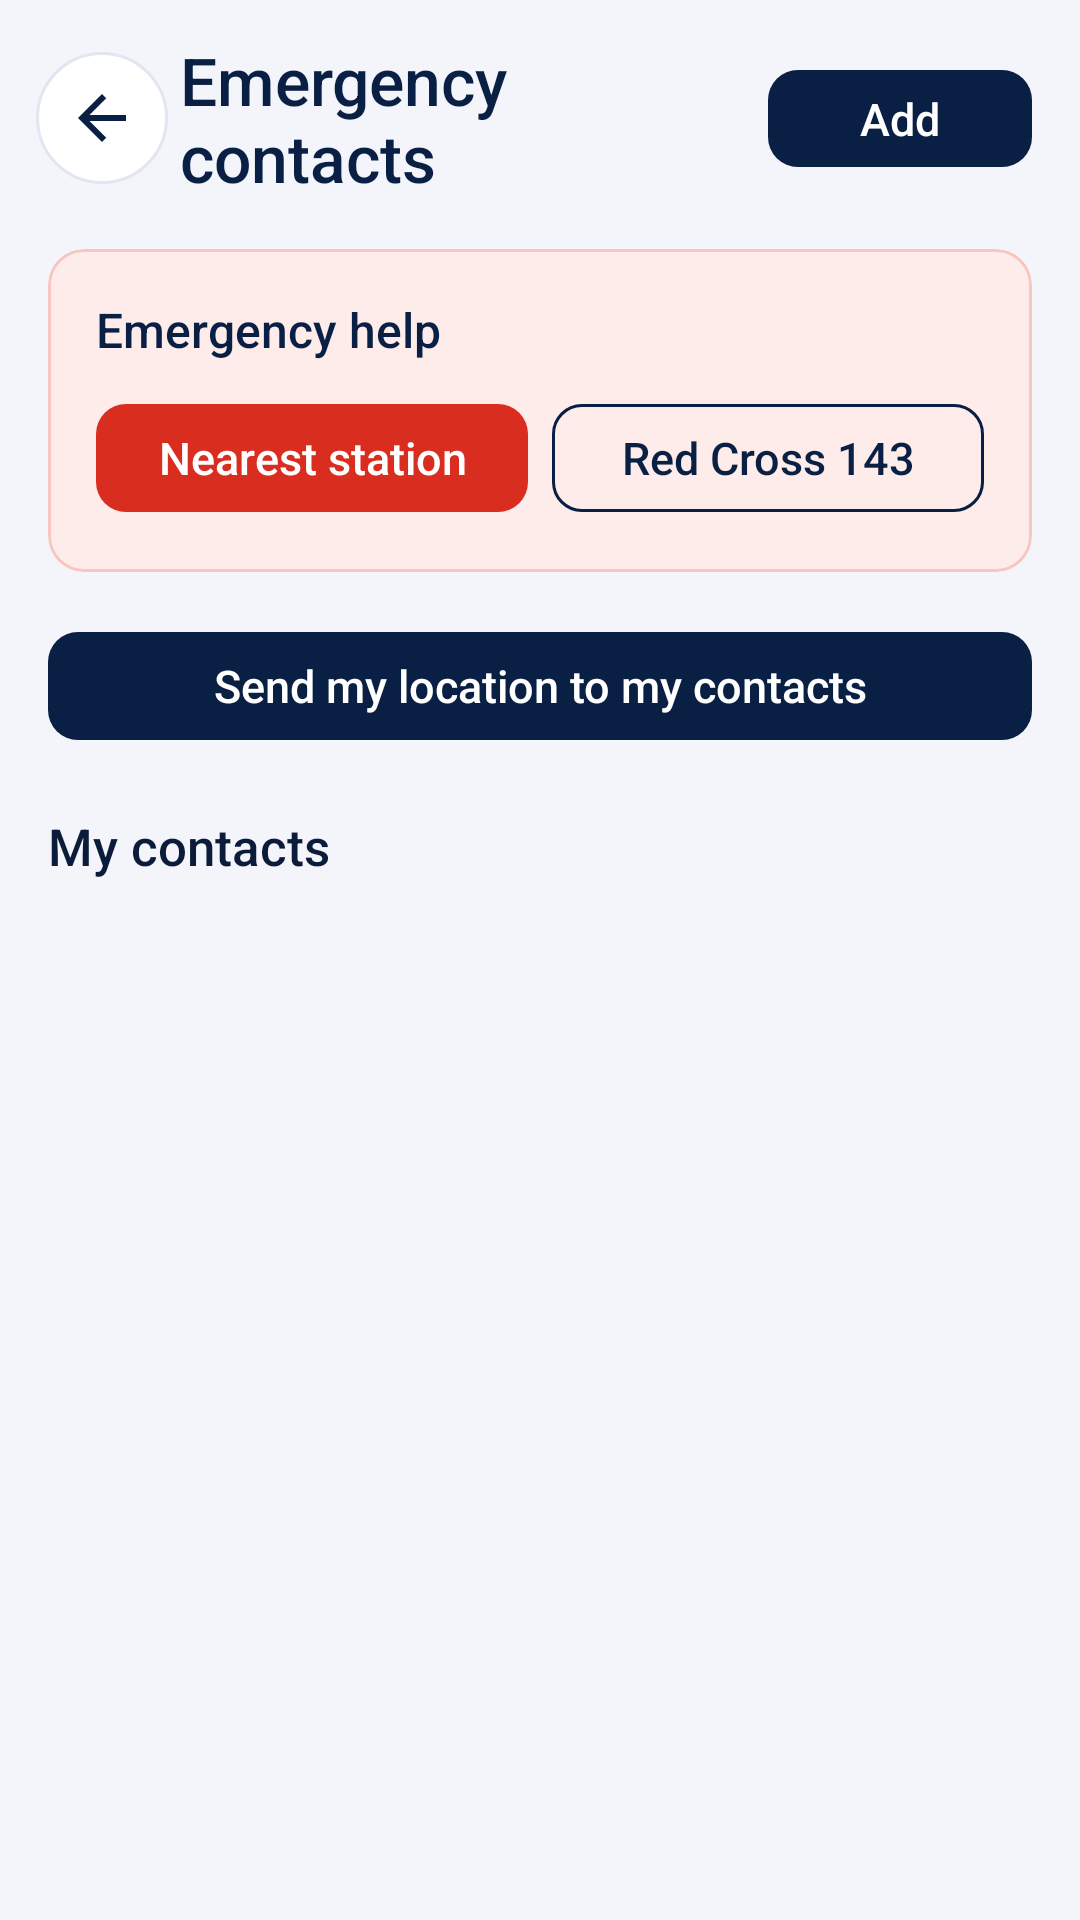

Where to tap for icons on this 1080 x 1920 app screen, as (x,y):
Back: (102,118)
